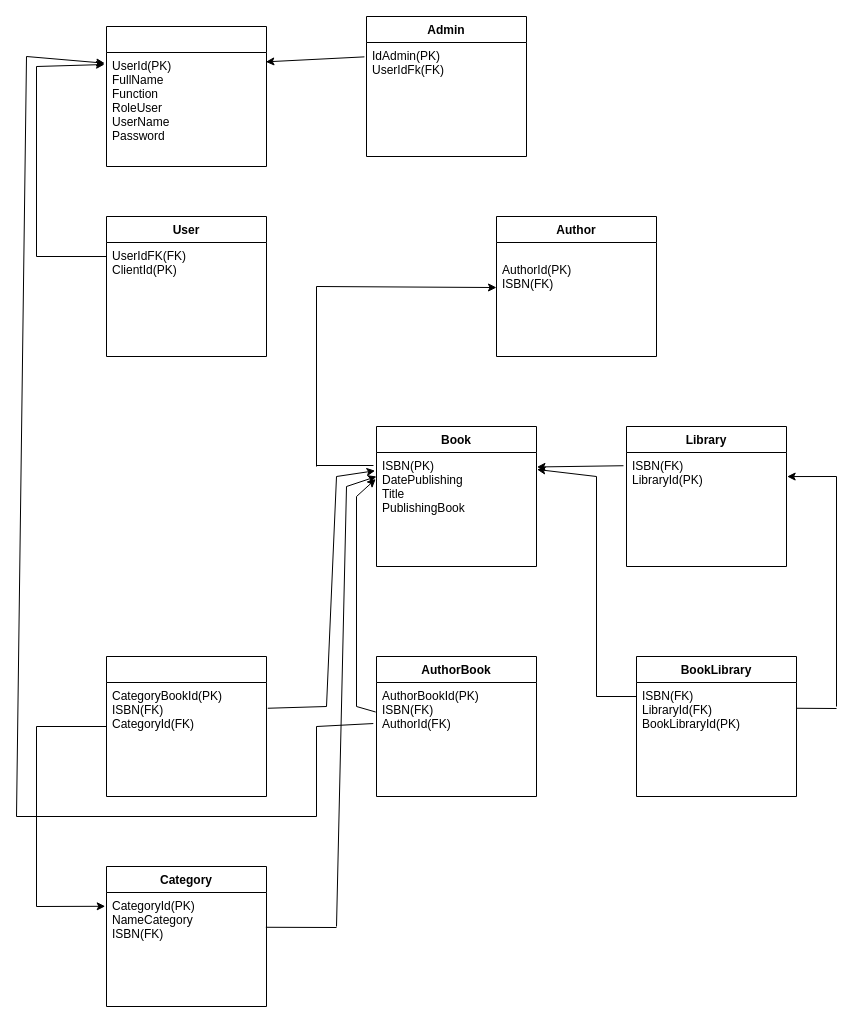
Image size: 853x1023. Some labels were removed from this diagram. The box of each missing label's shape, as (x1, y1, x2, y2) in pixels:
BookCategory: (106, 656, 266, 796)
MyUsers: (106, 26, 266, 166)
